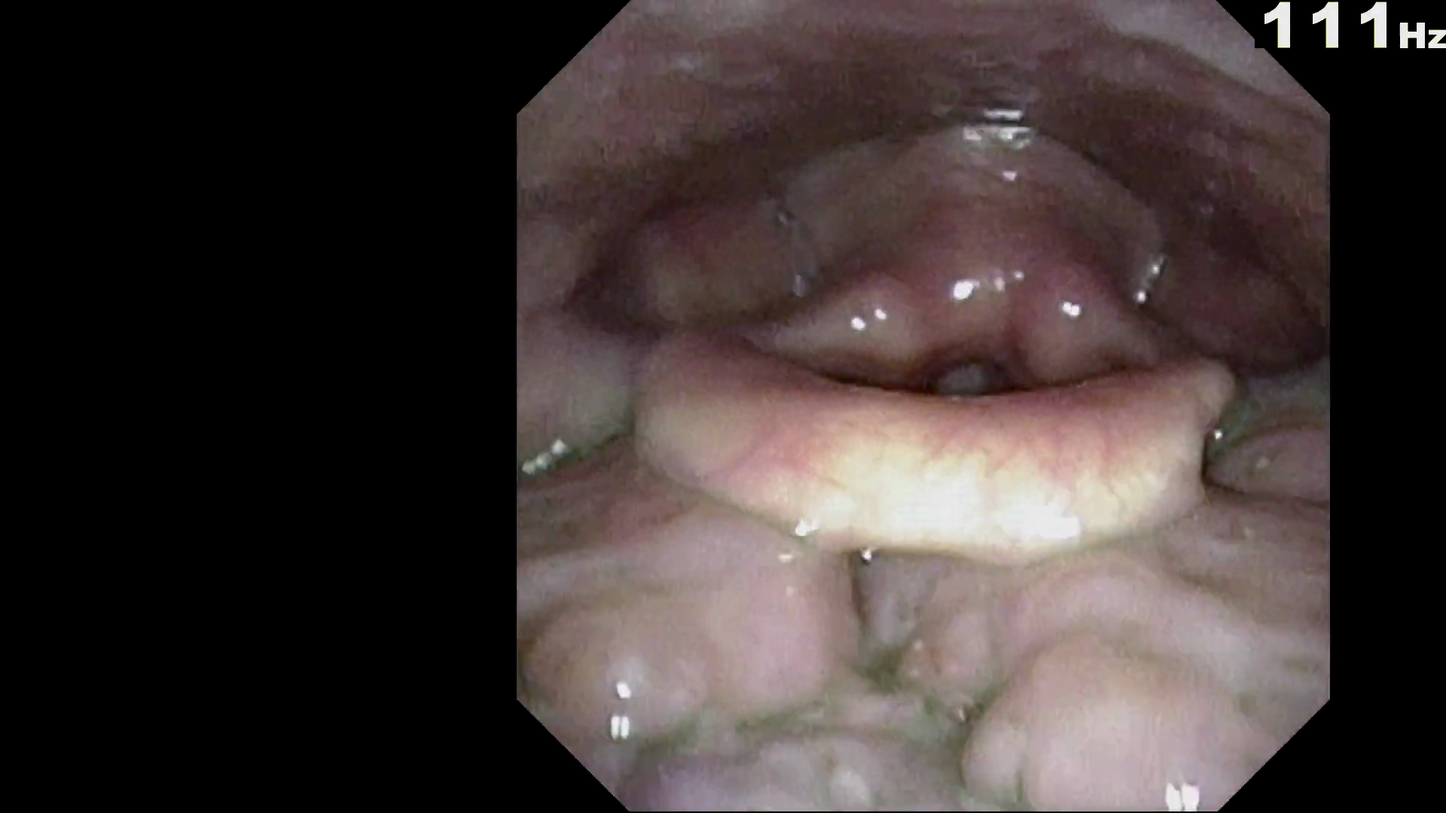epiglottis: (615, 295, 1245, 566)
trachea: (904, 312, 1038, 456)
